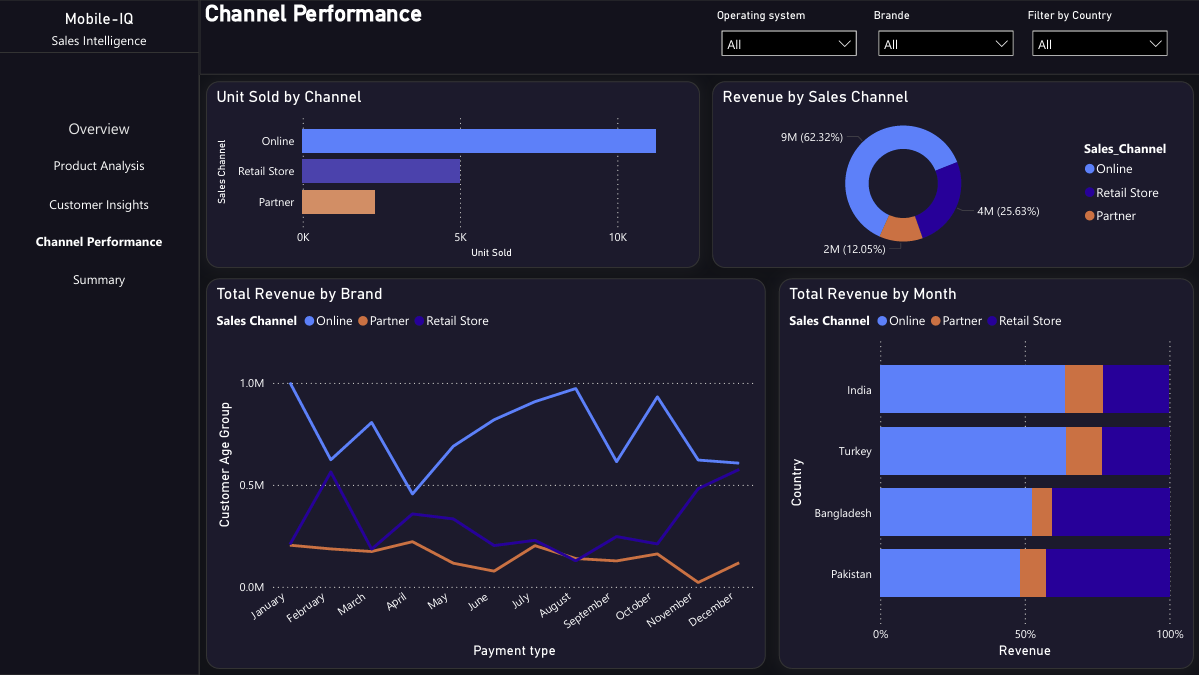

What the dashboard file says about the page in this screenshot:
{"tool":"powerbi","page":{"name":"Channel Performance Page","canvas":[1280,720],"ordinal":3},"visuals":[{"type":"barChart","title":"Unit Sold by Channel","fields":{"Category":["Fact_Sales.Sales_Channel"],"Y":["Sum(Fact_Sales.Units_Sold)"]},"box":[221.1,87.5,526.5,283.1],"z":0},{"type":"donutChart","title":"Revenue by Sales Channel","fields":{"Y":["Fact_Sales.Overal revenue"],"Category":["Fact_Sales.Sales_Channel"]},"box":[760.3,87.5,512.2,283.1],"z":4000},{"type":"shape","box":[0,0,214,720],"z":5000},{"type":"actionButton","box":[12.5,115.5,188.1,40.3],"z":6000},{"type":"actionButton","box":[12.5,155.8,188.1,41.2],"z":7000},{"type":"actionButton","box":[12.5,197,188.1,40.3],"z":8000},{"type":"actionButton","box":[12.5,237.3,188.1,40.3],"z":9000},{"type":"actionButton","title":"Mobile-IQ","box":[0,10,214,70],"z":10000},{"type":"textbox","title":"Channel Performance","box":[214,0,1066,80],"z":11000},{"type":"slicer","title":"Filter by Country","fields":{"Values":["Fact_Sales.Country"]},"box":[1091,10,164,53],"z":12000},{"type":"slicer","title":"Brande","fields":{"Values":["Fact_Sales.Brand"]},"box":[927,10,164,53],"z":13000},{"type":"slicer","title":"Operating system","fields":{"Values":["Fact_Sales.Operating_System"]},"box":[760,10,164,53],"z":14000},{"type":"lineChart","title":"Total Revenue by Brand","fields":{"Category":["Fact_Sales.Transaction_Date.Variation.Date Hierarchy.Month"],"Y":["Sum(Fact_Sales.Total_Revenue)"],"Series":["Fact_Sales.Sales_Channel"]},"box":[221.1,383.3,596.5,329.3],"z":15000},{"type":"hundredPercentStackedBarChart","title":"Total Revenue by Month","fields":{"Category":["Fact_Sales.Country"],"Y":["Sum(Fact_Sales.Total_Revenue)"],"Series":["Fact_Sales.Sales_Channel"]},"box":[830.3,383.3,442.2,329.3],"z":17000},{"type":"actionButton","box":[13,277,188,41],"z":18001}]}

Visuals, with their boxes in screenshot pixels (x1, y1, x2, y2), scaled from the page's 1280x720 canvas onto the 1199x675 screenshot:
"Unit Sold by Channel" barChart: bbox=[207, 82, 700, 347]
"Revenue by Sales Channel" donutChart: bbox=[712, 82, 1192, 347]
shape: bbox=[0, 0, 200, 674]
actionButton: bbox=[12, 108, 188, 146]
actionButton: bbox=[12, 146, 188, 185]
actionButton: bbox=[12, 185, 188, 222]
actionButton: bbox=[12, 222, 188, 260]
"Mobile-IQ" actionButton: bbox=[0, 9, 200, 75]
"Channel Performance" textbox: bbox=[200, 0, 1198, 75]
"Filter by Country" slicer: bbox=[1022, 9, 1176, 59]
"Brande" slicer: bbox=[868, 9, 1022, 59]
"Operating system" slicer: bbox=[712, 9, 866, 59]
"Total Revenue by Brand" lineChart: bbox=[207, 359, 766, 668]
"Total Revenue by Month" hundredPercentStackedBarChart: bbox=[778, 359, 1192, 668]
actionButton: bbox=[12, 260, 188, 298]
